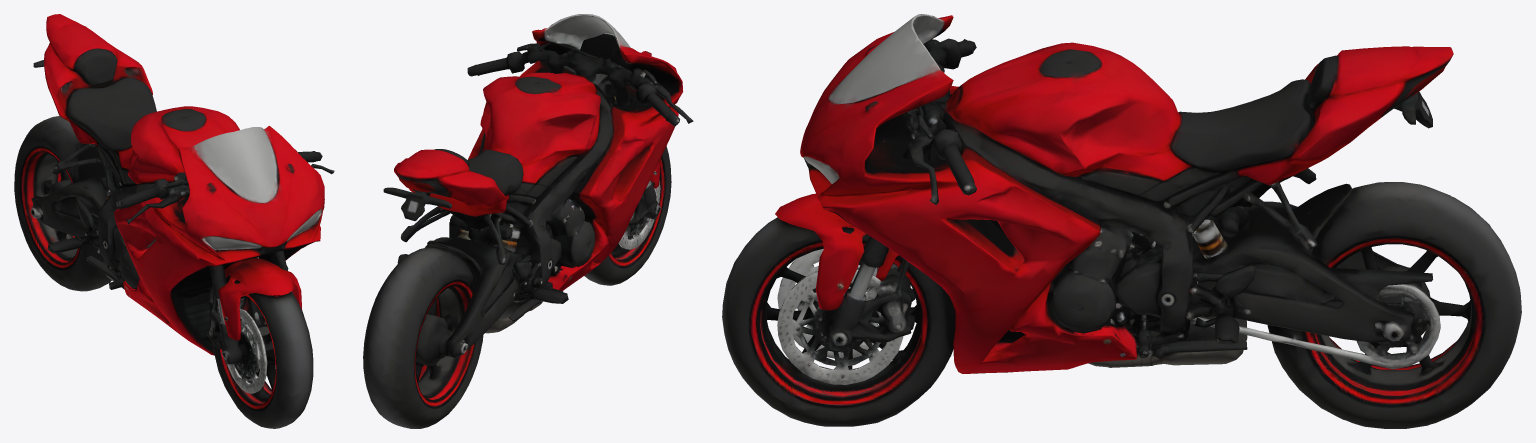
Rendered from motorcycle.glb.
3 renders of one model, left to right at view 1: azimuth 30°, elevation 25°; view 2: azimuth 150°, elevation 25°; view 3: azimuth 270°, elevation 25°, orthographic. The views are drawn at different scales.
Parts seen in each view (by area): view 1: tripo_node_567b0033-deaf-4f67-974c-216d1a4f8eaa; view 2: tripo_node_567b0033-deaf-4f67-974c-216d1a4f8eaa; view 3: tripo_node_567b0033-deaf-4f67-974c-216d1a4f8eaa.
Part boxes in pixels (x1,y1,x2,y2): tripo_node_567b0033-deaf-4f67-974c-216d1a4f8eaa: [14, 14, 334, 428]; tripo_node_567b0033-deaf-4f67-974c-216d1a4f8eaa: [363, 14, 693, 428]; tripo_node_567b0033-deaf-4f67-974c-216d1a4f8eaa: [722, 14, 1521, 428].
Size of the model in its own units: 0.439 by 0.5539 by 1.
1 material, 1 textured.
